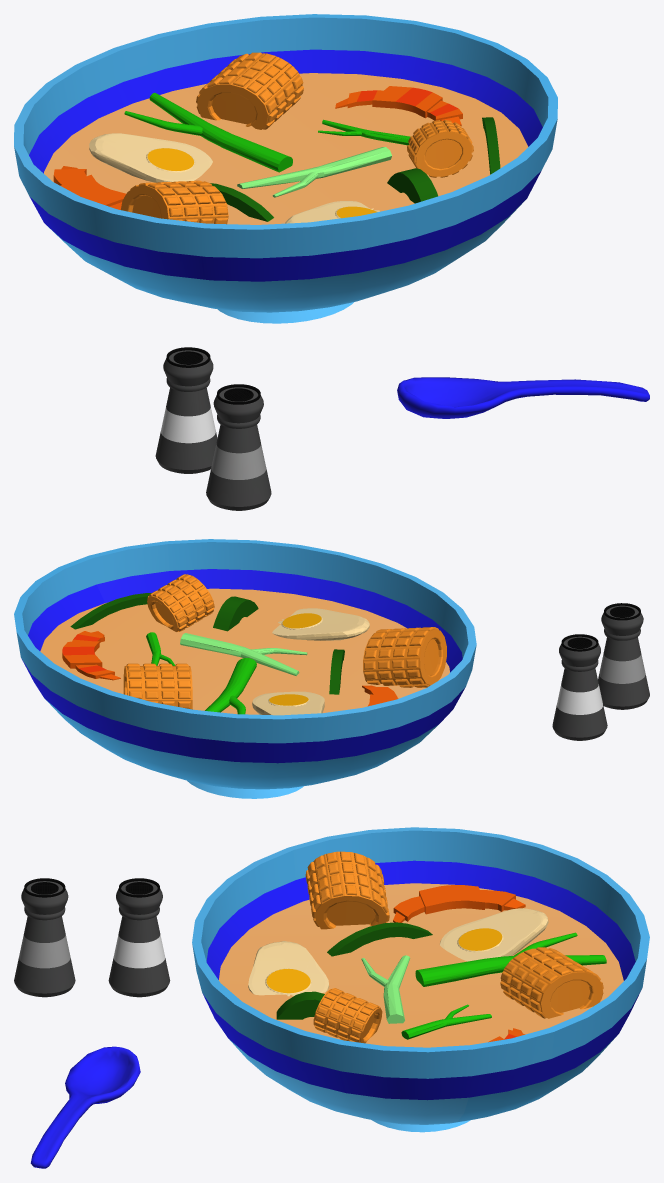
The model's file is Soup.fbx.
The picture shows the model from 3 angles, top to bottom: view 1: azimuth 30°, elevation 25°; view 2: azimuth 150°, elevation 25°; view 3: azimuth 270°, elevation 25°; orthographic projection. The views are drawn at different scales.
Visible parts, largest first — view 1: Bowl.003, Soup, Bowl.002, Bowl.001, spoon, Corn.001, Corn, Egg 2, Circle, Corn.002, Salt n spice.010, Salt n spice.005 (+12 smaller); view 2: Bowl.003, Soup, Bowl.002, Bowl.001, Corn, Corn.001, Corn.002, Egg, Salt n spice.005, Salt n spice.010, Circle.003, Salt n spice.001 (+12 smaller); view 3: Bowl.003, Soup, Bowl.002, Bowl.001, Corn, Corn.001, spoon, Egg 2, Cube.084, Corn.002, Egg, Circle (+12 smaller).
Part boxes in pixels (box(x1,y1,x2,y2)): Bowl.003: box(14, 14, 557, 258); Soup: box(44, 73, 528, 224); Bowl.002: box(29, 49, 542, 281); Bowl.001: box(47, 200, 525, 323); spoon: box(397, 377, 649, 418); Corn.001: box(196, 52, 303, 129); Corn: box(120, 180, 228, 224); Egg 2: box(89, 133, 212, 182); Circle: box(124, 92, 292, 172); Corn.002: box(407, 120, 473, 177); Salt n spice.010: box(213, 387, 263, 453); Salt n spice.005: box(163, 350, 213, 416); Bowl.003: box(14, 539, 476, 743); Soup: box(40, 588, 449, 714); Bowl.002: box(22, 569, 465, 763); Bowl.001: box(45, 699, 437, 798); Corn: box(363, 627, 446, 687); Corn.001: box(123, 663, 192, 709); Corn.002: box(147, 574, 214, 631); Egg: box(272, 608, 369, 640); Salt n spice.005: box(559, 636, 600, 692); Salt n spice.010: box(601, 605, 643, 661); Circle.003: box(180, 633, 307, 675); Salt n spice.001: box(552, 705, 607, 740); Bowl.003: box(192, 827, 649, 1078); Soup: box(219, 883, 623, 1047); Bowl.002: box(202, 860, 641, 1100); Bowl.001: box(229, 1036, 616, 1132); Corn: box(305, 851, 389, 929); Corn.001: box(500, 947, 603, 1018); spoon: box(30, 1046, 140, 1168); Egg 2: box(440, 908, 548, 961); Cube.084: box(393, 885, 525, 922); Corn.002: box(313, 988, 382, 1043); Egg: box(248, 941, 329, 996); Circle: box(415, 932, 606, 986).
Size of the model in its own units: 247 by 82.14 by 278.
Materials: 1 (1 with a texture image).
